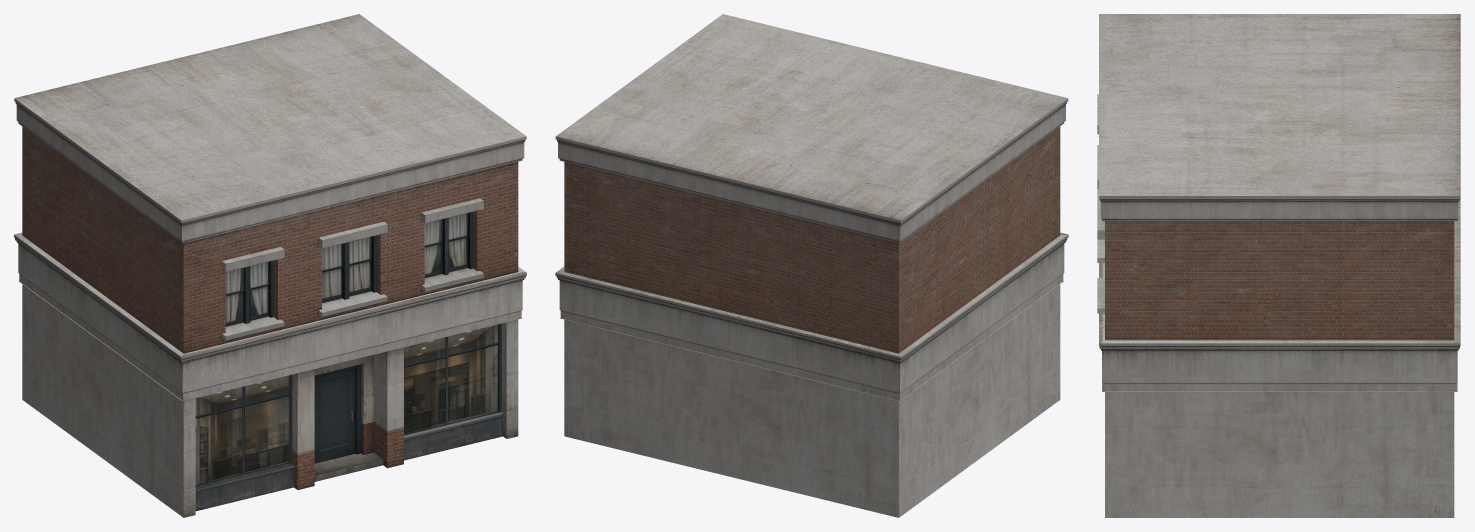
File: brick_shop.glb
The picture shows the model from 3 angles, left to right: view 1: azimuth 30°, elevation 25°; view 2: azimuth 150°, elevation 25°; view 3: azimuth 270°, elevation 25°; orthographic projection. The views are drawn at different scales.
Parts seen in each view (by area): view 1: storefront 1_node; view 2: storefront 1_node; view 3: storefront 1_node.
Boxes of the visible parts, bbox=[...] form: storefront 1_node: bbox=[14, 14, 526, 517]; storefront 1_node: bbox=[555, 14, 1068, 517]; storefront 1_node: bbox=[1097, 14, 1460, 517].
Size of the model in its own units: 93.67 by 77.86 by 78.98.
Materials: 2 (2 with a texture image).
